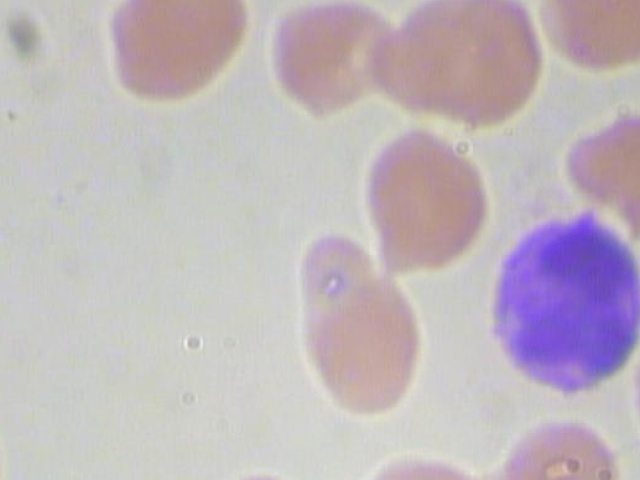RBC: (372, 0, 551, 134), (345, 127, 502, 275), (291, 272, 447, 420), (257, 0, 405, 127), (105, 0, 252, 103), (486, 409, 624, 480), (528, 0, 640, 78)
WBC: (480, 199, 640, 396)
